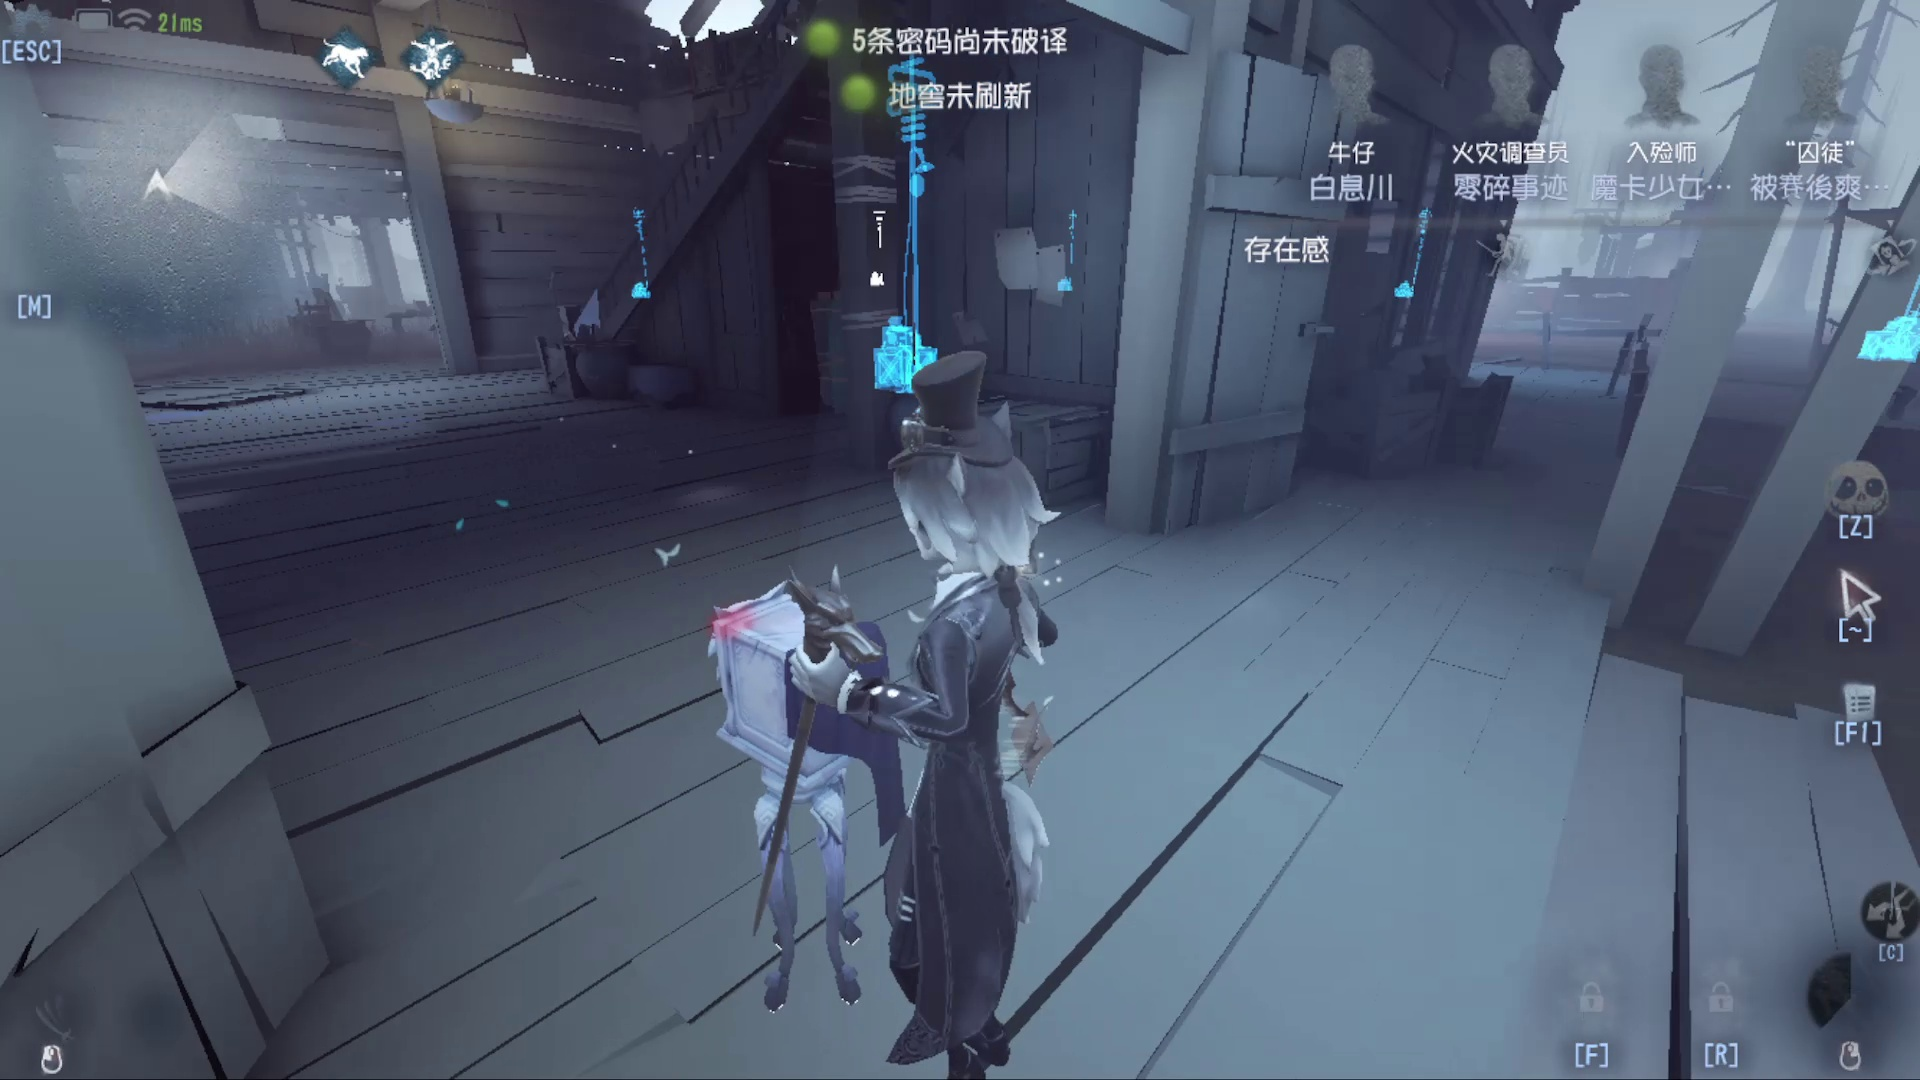密码机: (857, 51, 993, 435), (613, 195, 673, 305), (1393, 193, 1425, 315)
